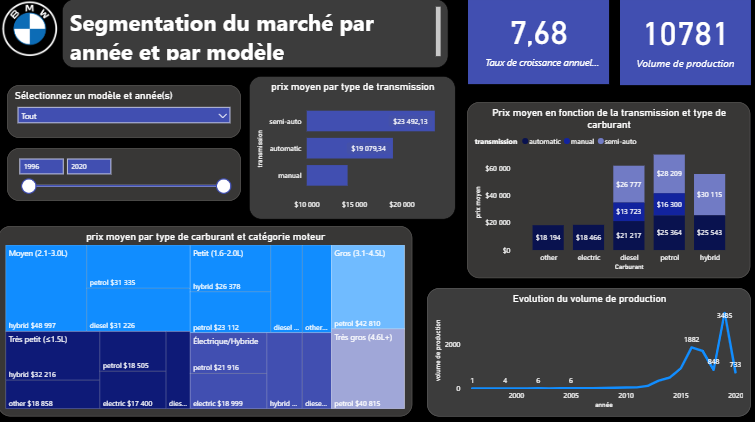

This screenshot's page, from the dashboard's own definition file:
{"tool":"powerbi","page":{"name":"Segmentation du marché","canvas":[1280,720],"ordinal":2},"visuals":[{"type":"textbox","box":[107.1,7.1,648.6,115.7],"z":0},{"type":"cardVisual","fields":{"Data":["bmw.Taux de croissance annuel moyen"]},"box":[790,7.1,237.1,142.9],"z":1000},{"type":"columnChart","title":"Prix moyen en fonction de la transmission et type de carburant","fields":{"Y":["bmw.prixmoy"],"Category":["bmw.fuelType"],"Series":["bmw.transmission"]},"box":[788.6,180,475.7,295.7],"z":2000},{"type":"barChart","title":"prix moyen par type de transmission","fields":{"Y":["bmw.prixmoy"],"Category":["bmw.transmission"]},"box":[421.4,135.7,347.1,241.4],"z":3000},{"type":"treemap","title":"prix moyen par type de carburant et catégorie moteur","fields":{"Values":["bmw.prixmoy"],"Group":["bmw.Catégorie Moteur"],"Details":["bmw.fuelType"]},"box":[0,388.6,695.7,320],"z":4000},{"type":"slicer","fields":{"Values":["bmw.year"]},"box":[15.7,257.1,392.9,88.6],"z":5000},{"type":"slicer","title":"Sélectionnez un modèle et année(s)","fields":{"Values":["bmw.model"]},"box":[15.7,151.4,392.9,88.6],"z":6000},{"type":"image","box":[0,0,107.1,111.4],"z":7000},{"type":"cardVisual","fields":{"Data":["bmw.Models Count"]},"box":[1044.3,8.6,220,142.9],"z":8000},{"type":"lineChart","title":"Evolution du volume de production","fields":{"Category":["bmw.year"],"Y":["bmw.Volume production"]},"box":[720,492.9,544.3,215.7],"z":9000}]}

Visuals, with their boxes in screenshot pixels (x1, y1, x2, y2), scaled from the page's 1280x720 canvas onto the 755x422 screenshot:
textbox: box=[63, 4, 446, 72]
cardVisual - bmw.Taux de croissance annuel moyen: box=[466, 4, 606, 88]
"Prix moyen en fonction de la transmission et type de carburant" columnChart: box=[465, 106, 746, 279]
"prix moyen par type de transmission" barChart: box=[249, 80, 453, 221]
"prix moyen par type de carburant et catégorie moteur" treemap: box=[0, 228, 410, 415]
slicer - bmw.year: box=[9, 151, 241, 203]
"Sélectionnez un modèle et année(s)" slicer: box=[9, 89, 241, 141]
image: box=[0, 0, 63, 65]
cardVisual - bmw.Models Count: box=[616, 5, 746, 89]
"Evolution du volume de production" lineChart: box=[425, 289, 746, 415]
